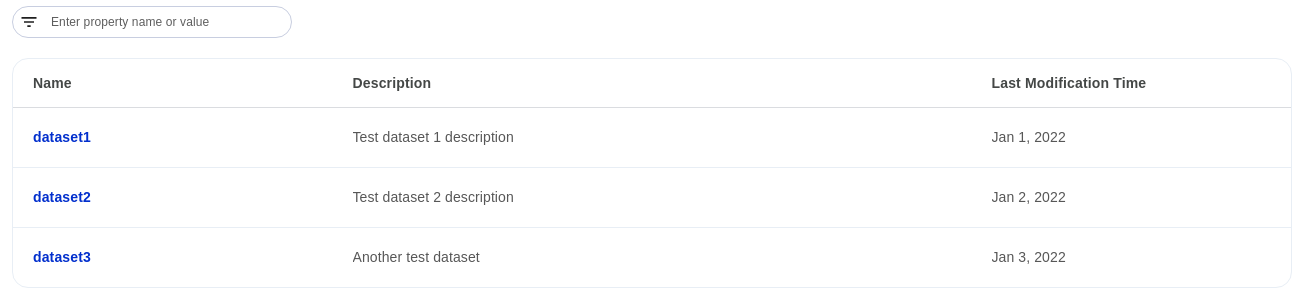
it: EntryList › filters entries by description via chip
Check: the text "dataset1" is shown, box [33,128,91,144]
Type "Test dataset 1" into the field with placeholder "Enter property name or value" at [167, 22], box [47,9,287,35]
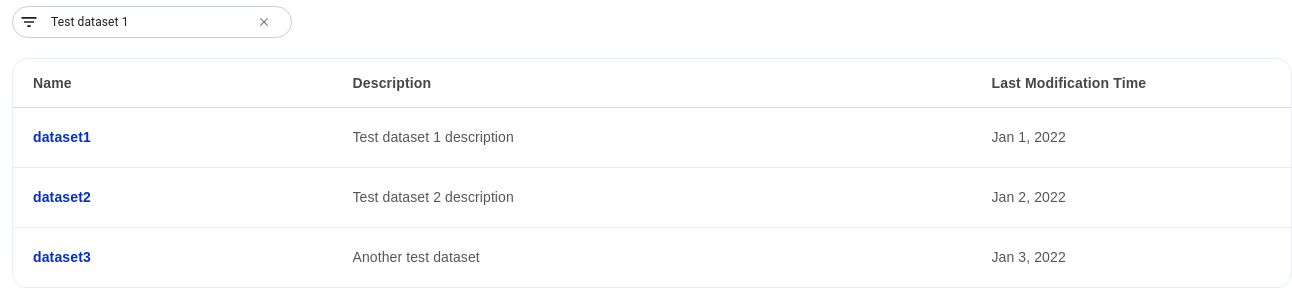
Press Enter in the field with placeholder "Enter property name or value", box [47,9,247,35]
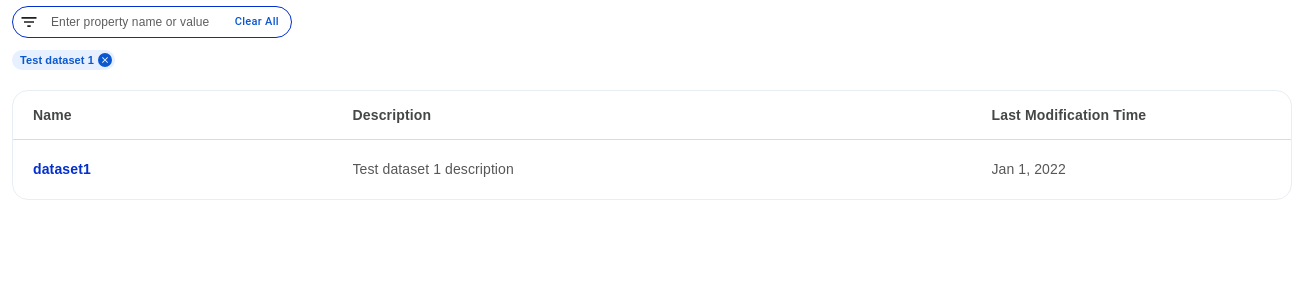
Check: the text "dataset1" is shown, box [33,161,91,177]
Check: the text "dataset2" is gone
Check: the text "dataset3" is gone
